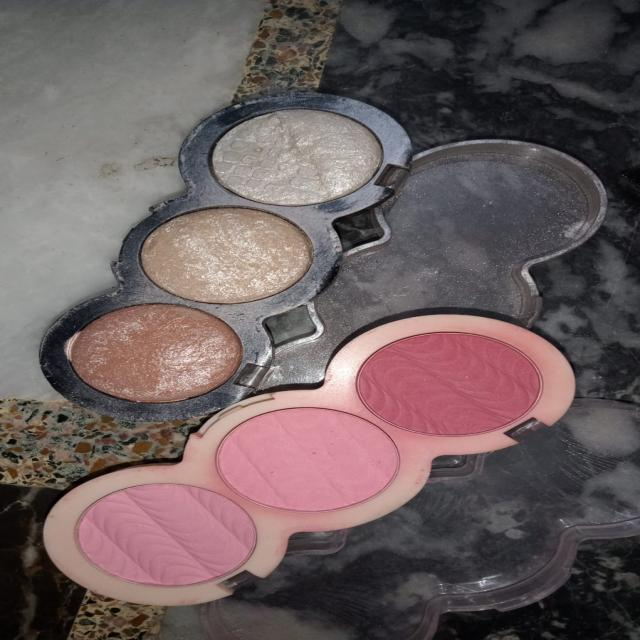blush: (76, 345, 585, 640)
highlighter: (70, 97, 378, 400)
